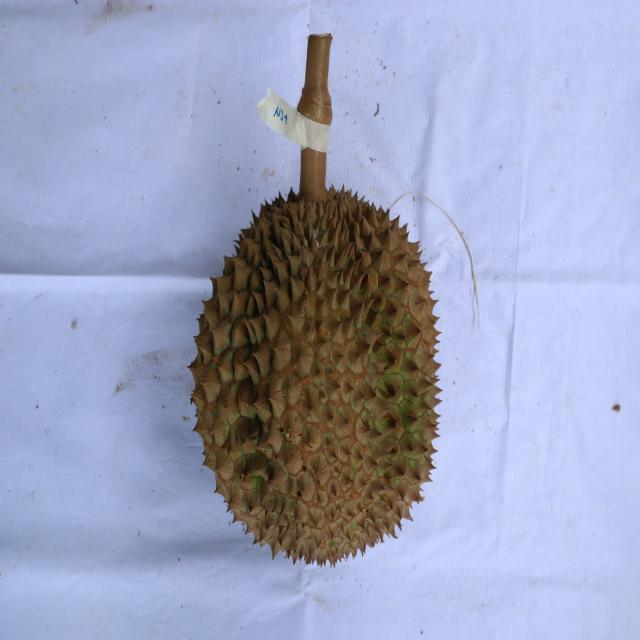mature: (190, 185, 440, 570)
